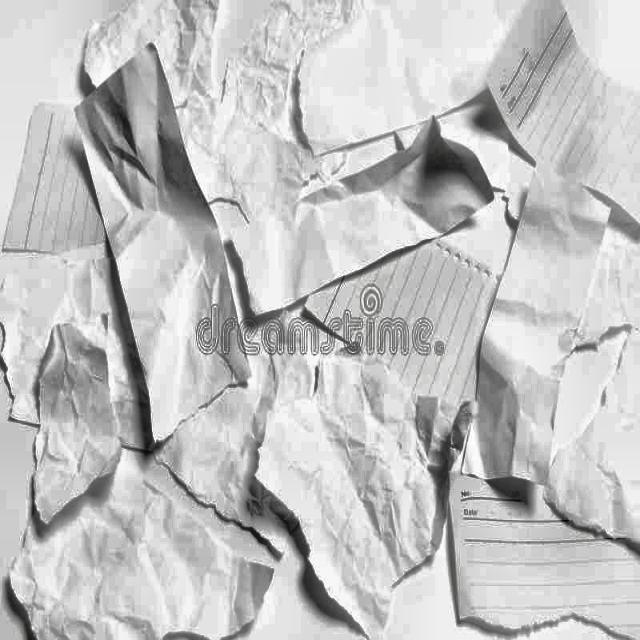Paper: (73, 47, 250, 448), (255, 353, 470, 639), (473, 169, 639, 494), (245, 121, 499, 312), (294, 6, 462, 185), (486, 0, 622, 181), (30, 323, 120, 530)
